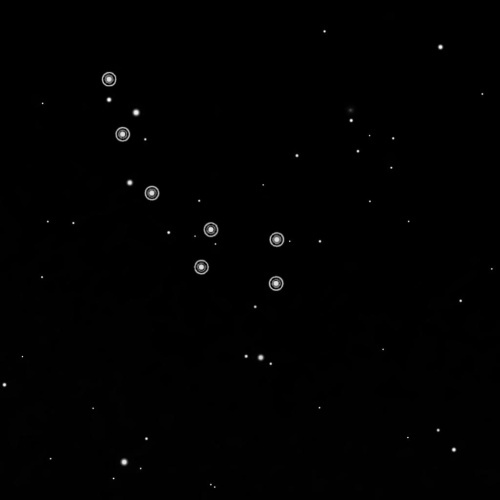ursa_minor: (95, 66, 297, 304)
